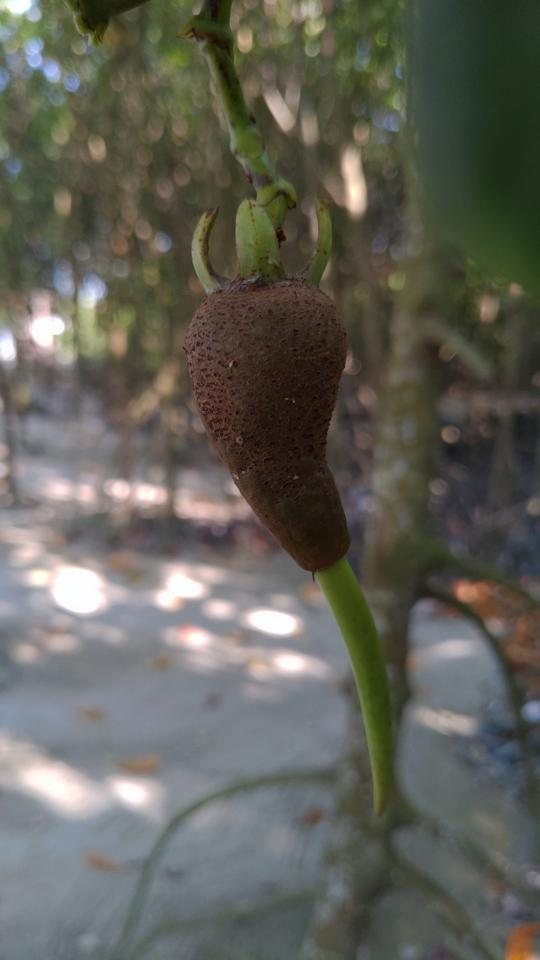mentah: (159, 171, 433, 840)
